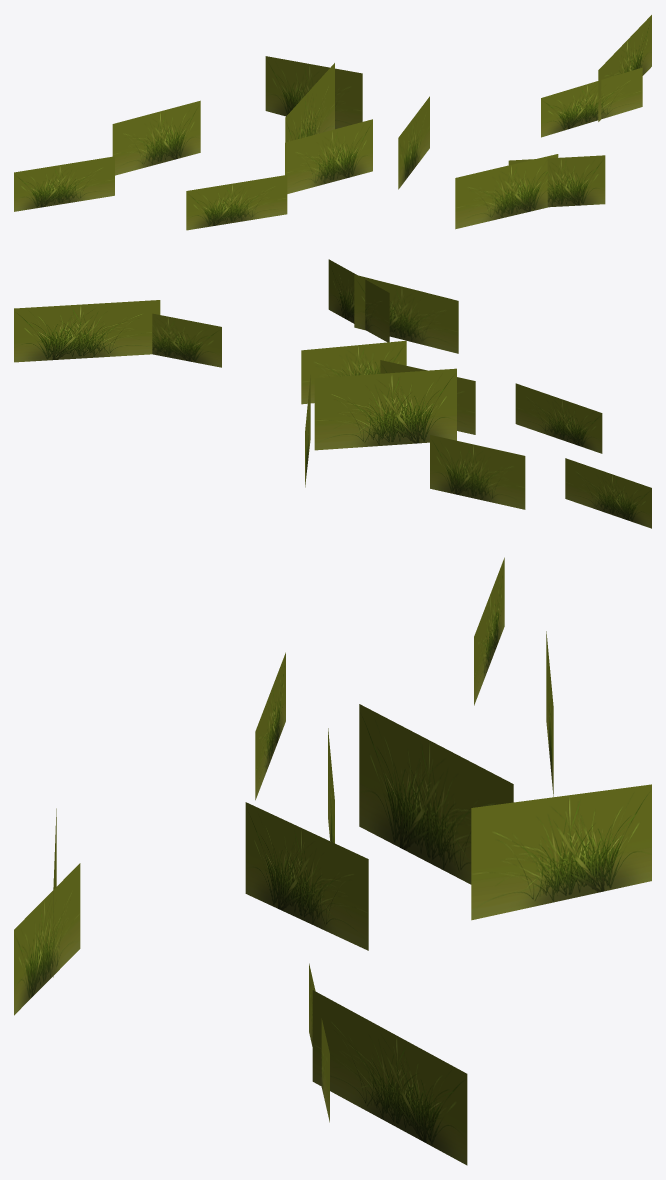
The model's file is yw_huanghunbianjing_cao01.FBX.
The picture shows the model from 3 angles, top to bottom: view 1: azimuth 30°, elevation 25°; view 2: azimuth 150°, elevation 25°; view 3: azimuth 270°, elevation 25°; orthographic projection. The views are drawn at different scales.
Visible parts, largest first — view 1: yw_huanghunbianjing_cao01; view 2: yw_huanghunbianjing_cao01; view 3: yw_huanghunbianjing_cao01.
Boxes of the visible parts, x1=… form: yw_huanghunbianjing_cao01: x1=14, y1=15, x2=651, y2=230; yw_huanghunbianjing_cao01: x1=14, y1=259, x2=651, y2=528; yw_huanghunbianjing_cao01: x1=14, y1=557, x2=651, y2=1165.
Bounding box in the file's own units: 789 × 83.78 × 395.
Materials: 1 (1 with a texture image).
